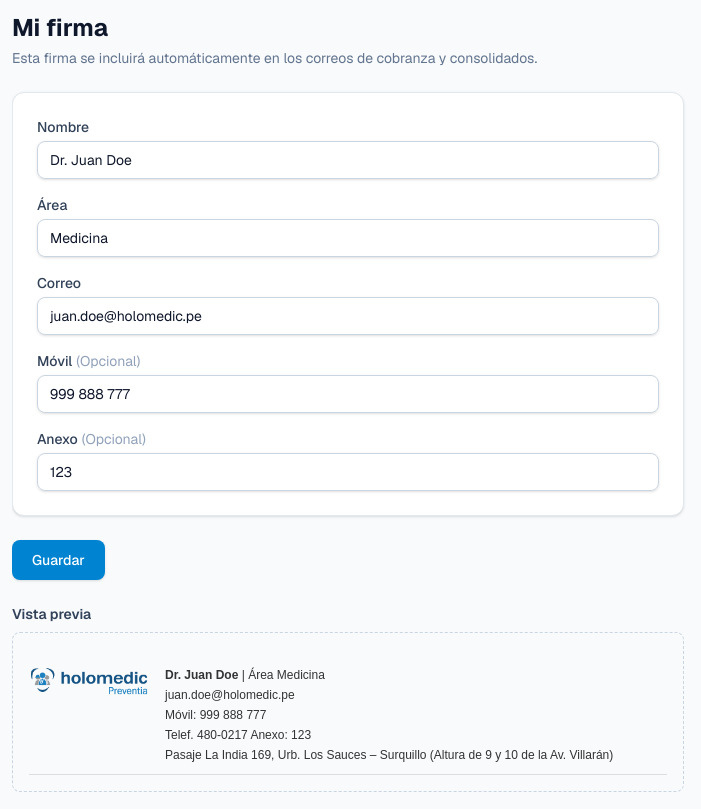
FirmaForm › live preview renders the composed signature and updates as fields change
Expected: the element with test id "firma-preview" shows "Dr. Juan Doe", [165,668,238,682]
Expected: the element with test id "firma-preview" shows "juan.doe@holomedic.pe", [165,688,295,702]
Step 1. Replace the text in the field labelled "Nombre" with "Dra. Ana Poe" → (348, 160), box [37,141,659,179]
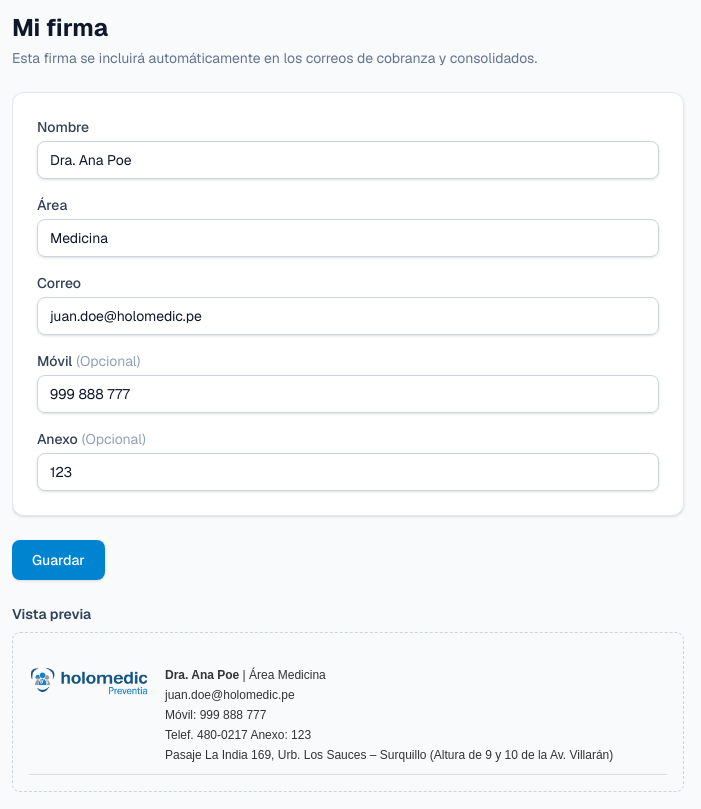
Expected: the element with test id "firma-preview" shows "Dra. Ana Poe", [165,668,239,682]
Expected: the text with test id "firma-preview" no longer shows "Dr. Juan Doe"
